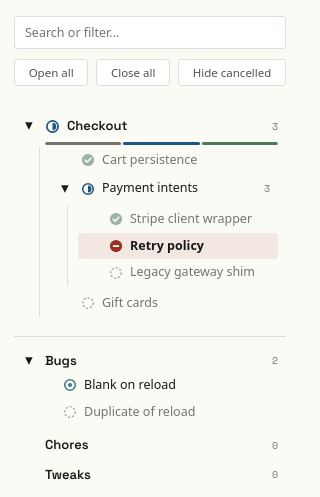
Navigator: hide cancelled › shows cancelled rows until the toggle is pressed, then drops them from every tier and shelf
The image size is (320, 497).
Check: the link "Gift cards" is shown, box [102,294,158,311]
Check: the link "Legacy gateway shim" is shown, box [130,263,270,282]
What coordinates should you click on to do the following:
click the button "Hide cancelled"
I would click on:
 (232, 72)
Its box is [178,59,286,86].
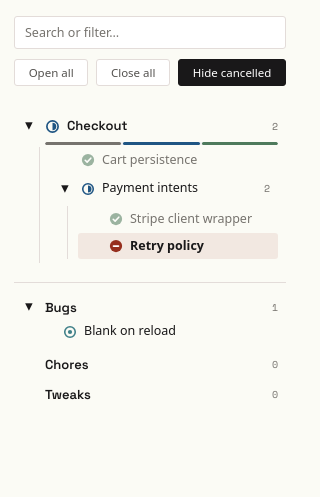
Check: the link "Gift cards" is gone
Check: the link "Legacy gateway shim" is gone
Check: the link "Duplicate of reload" is gone
